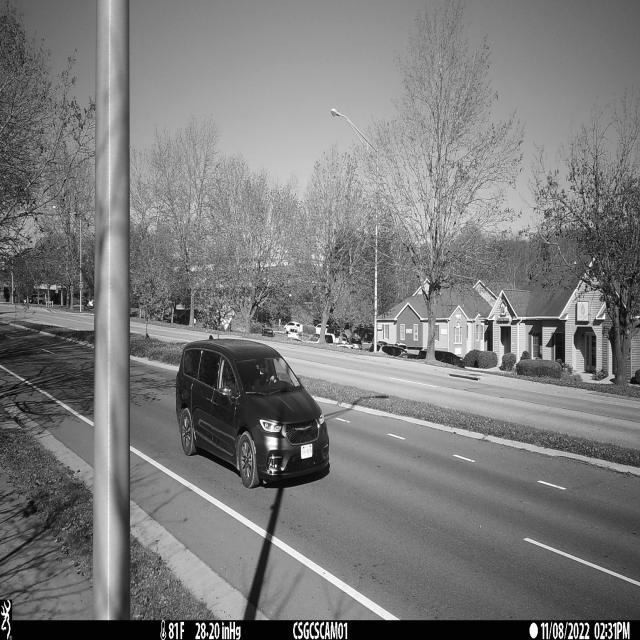Van: (176, 339, 329, 489)
